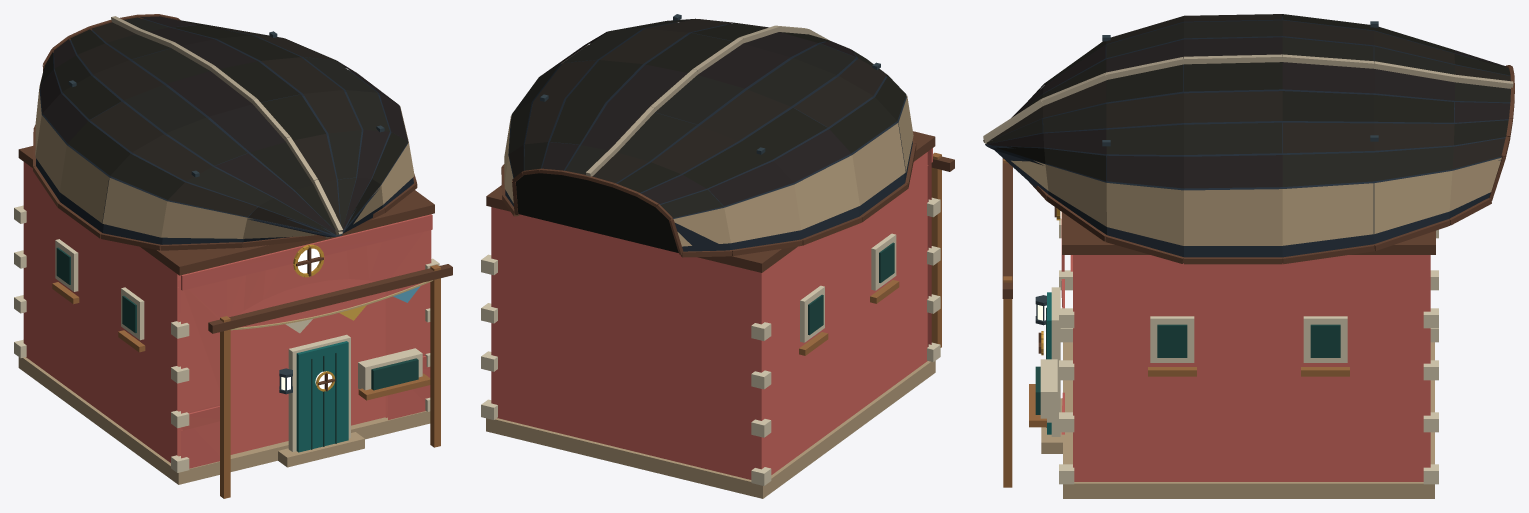
The model's file is boat-shop-large-coral.glb.
The picture shows the model from 3 angles, left to right: view 1: azimuth 30°, elevation 25°; view 2: azimuth 150°, elevation 25°; view 3: azimuth 270°, elevation 25°; orthographic projection. The views are drawn at different scales.
Parts seen in each view (by area): view 1: boat-shop-large-coral; view 2: boat-shop-large-coral; view 3: boat-shop-large-coral.
Boxes of the visible parts, <box> form: boat-shop-large-coral: <box>14,14,452,498</box>; boat-shop-large-coral: <box>481,14,954,498</box>; boat-shop-large-coral: <box>983,14,1514,498</box>.
Bounding box in the file's own units: 5.94 × 5.84 × 7.6.
